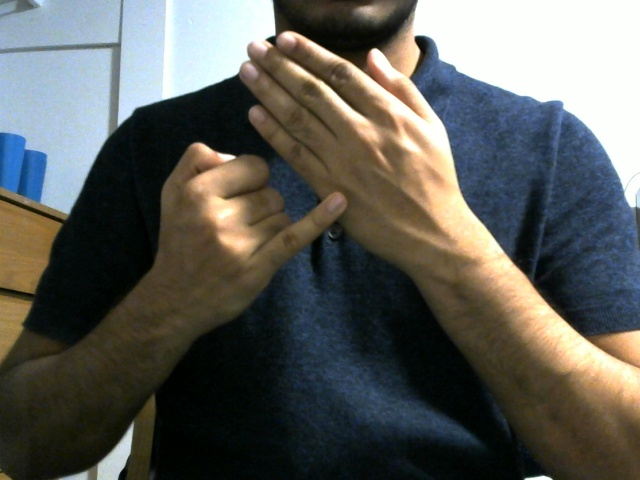Project: (164, 38, 469, 304)
